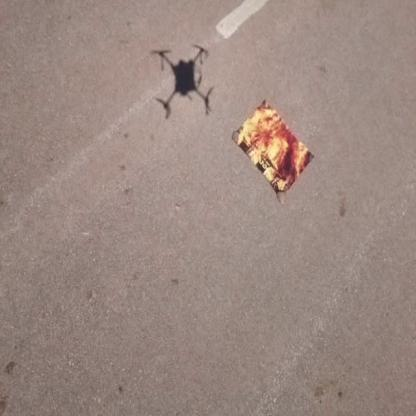fire-poster: (230, 97, 314, 201)
